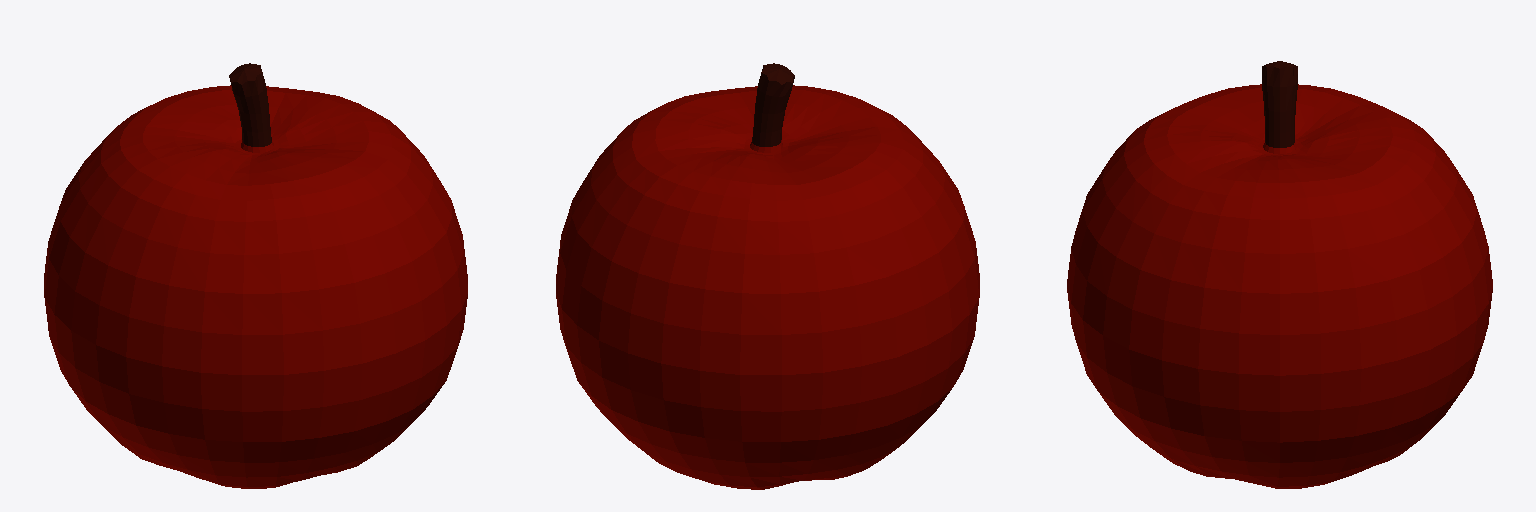
The model's file is apple.obj.
3 renders of one model, left to right at view 1: azimuth 30°, elevation 25°; view 2: azimuth 150°, elevation 25°; view 3: azimuth 270°, elevation 25°, orthographic.
Visible parts, largest first — view 1: Apple.Slices_Sphere.001; view 2: Apple.Slices_Sphere.001; view 3: Apple.Slices_Sphere.001.
Boxes of the visible parts, x1=… form: Apple.Slices_Sphere.001: x1=44, y1=63, x2=467, y2=488; Apple.Slices_Sphere.001: x1=556, y1=63, x2=979, y2=489; Apple.Slices_Sphere.001: x1=1067, y1=61, x2=1492, y2=488.
Bounding box in the file's own units: 1.91 × 1.88 × 1.91.